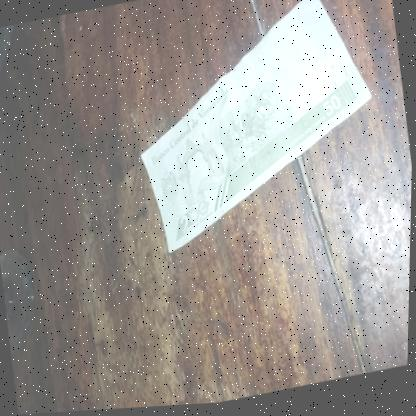vef_back: (121, 0, 389, 260)
